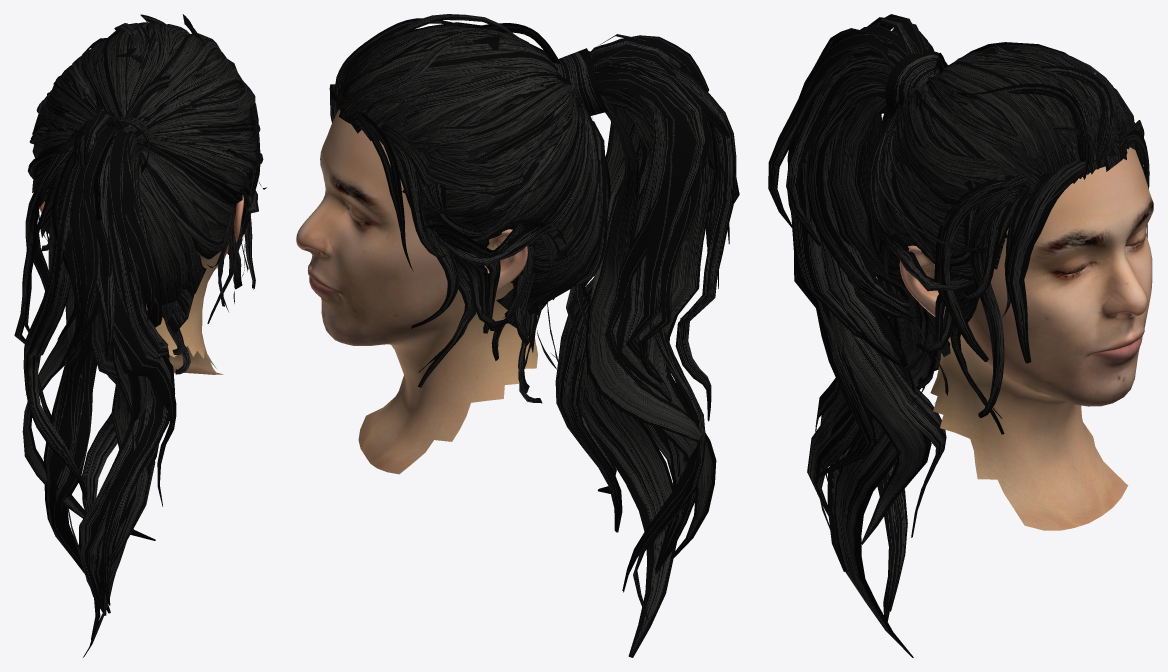
Rendered from Cabeza.obj.
The picture shows the model from 3 angles, left to right: view 1: azimuth 30°, elevation 25°; view 2: azimuth 150°, elevation 25°; view 3: azimuth 270°, elevation 25°; orthographic projection. The views are drawn at different scales.
Parts seen in each view (by area): view 1: Cabeza; view 2: Cabeza; view 3: Cabeza.
Boxes of the visible parts, box(x1,y1,x2,y2) form: Cabeza: box(14, 14, 266, 657); Cabeza: box(296, 14, 739, 657); Cabeza: box(768, 14, 1153, 657).
Size of the model in its own units: 5.38 by 10.21 by 5.36.
Materials: 3 (3 with a texture image).
